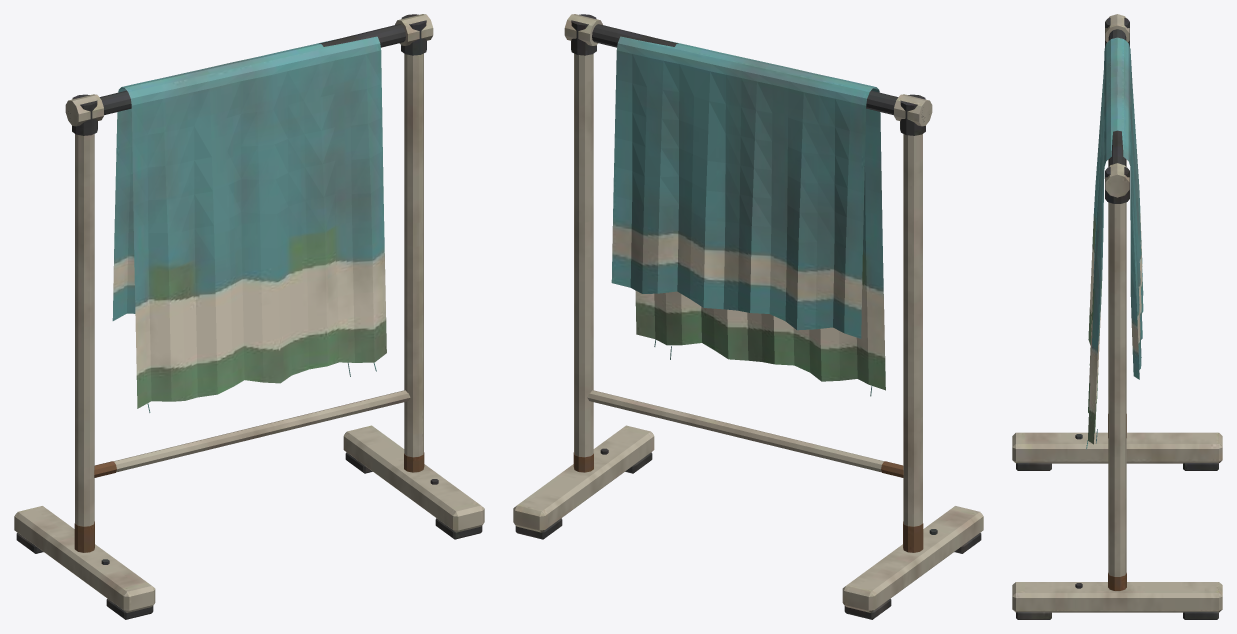
File: B22_towel_rack_with_towel.glb
3 views of the same model, side by side, from view 1: azimuth 30°, elevation 25°; view 2: azimuth 150°, elevation 25°; view 3: azimuth 270°, elevation 25° (orthographic). The views are drawn at different scales.
Parts seen in each view (by area): view 1: Flattened cream foot; view 2: Flattened cream foot; view 3: Flattened cream foot.
Part boxes in pixels (box(x1,y1,x2,y2)): Flattened cream foot: box(14, 14, 484, 619); Flattened cream foot: box(513, 14, 983, 619); Flattened cream foot: box(1012, 14, 1222, 619).
Size of the model in its own units: 0.6297 by 0.8 by 0.3426.
Materials: 7 (7 with a texture image).
